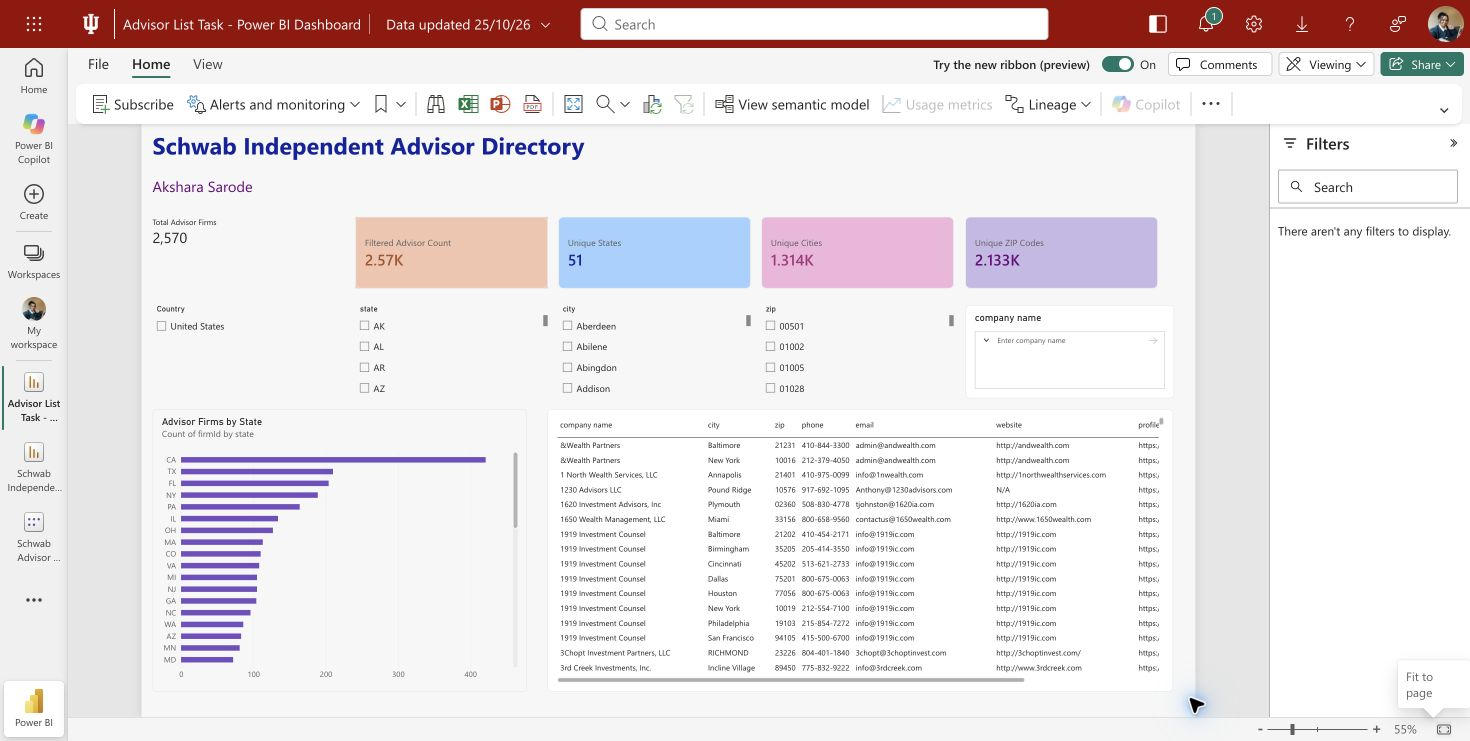

This screenshot's page, from the dashboard's own definition file:
{"tool":"powerbi","page":{"name":"Page 1","canvas":[1920,1080],"ordinal":0},"visuals":[{"type":"slicer","fields":{"Values":["Advisor Locations.Country"]},"box":[20,330,350,170],"z":0},{"type":"slicer","fields":{"Values":["Advisor Locations.state"]},"box":[390,330,350,170],"z":1000},{"type":"slicer","fields":{"Values":["Advisor Locations.city"]},"box":[760,330,350,170],"z":2000},{"type":"slicer","fields":{"Values":["Advisor Locations.zip"]},"box":[1130,330,350,170],"z":3000},{"type":"textSlicer","fields":{"Values":["Advisor Locations.company name"]},"box":[1500,330,380,170],"z":4000},{"type":"tableEx","fields":{"Values":["Advisor Locations.company name","Advisor Locations.city","Advisor Locations.zip","Advisor Locations.phone","Advisor Locations.email","Advisor Locations.website","Advisor Locations.profile url","Advisor Locations.state"]},"box":[739.2,519.5,1139.6,514.9],"z":5000},{"type":"cardVisual","fields":{"Data":["Count(Advisor Locations.state)"]},"box":[760,170,350,130],"z":6000},{"type":"cardVisual","fields":{"Data":["Count(Advisor Locations.city)"]},"box":[1130,170,350,130],"z":7000},{"type":"cardVisual","fields":{"Data":["Count(Advisor Locations.zip)"]},"box":[1500,170,350,130],"z":8000},{"type":"cardVisual","fields":{"Data":["Count(Advisor Locations.firmId)"]},"box":[390,170,350,130],"z":9000},{"type":"textbox","box":[20.4,170,350.2,122.6],"z":10000},{"type":"textbox","box":[20,10,1520,90],"z":11000},{"type":"textbox","box":[20,95,1520,60],"z":12000},{"type":"clusteredBarChart","title":"Advisor Firms by State","fields":{"Category":["Advisor Locations.state"],"Y":["Count(Advisor Locations.firmId)"]},"box":[20.6,519.5,682,514.9],"z":13000}]}

Visuals, with their boxes on the page's 1920x1080 design canvas (x1, y1, x2, y2). These are canvas units, not pixel positions in the 1470x741 screenshot, which may show the page scaled, cropped or inside an application window:
slicer - Advisor Locations.Country: 20 330 370 500
slicer - Advisor Locations.state: 390 330 740 500
slicer - Advisor Locations.city: 760 330 1110 500
slicer - Advisor Locations.zip: 1130 330 1480 500
textSlicer - Advisor Locations.company name: 1500 330 1880 500
tableEx - Advisor Locations.company name x Advisor Locations.city: 739 520 1879 1034
cardVisual - Count(Advisor Locations.state): 760 170 1110 300
cardVisual - Count(Advisor Locations.city): 1130 170 1480 300
cardVisual - Count(Advisor Locations.zip): 1500 170 1850 300
cardVisual - Count(Advisor Locations.firmId): 390 170 740 300
textbox: 20 170 371 293
textbox: 20 10 1540 100
textbox: 20 95 1540 155
"Advisor Firms by State" clusteredBarChart: 21 520 703 1034
